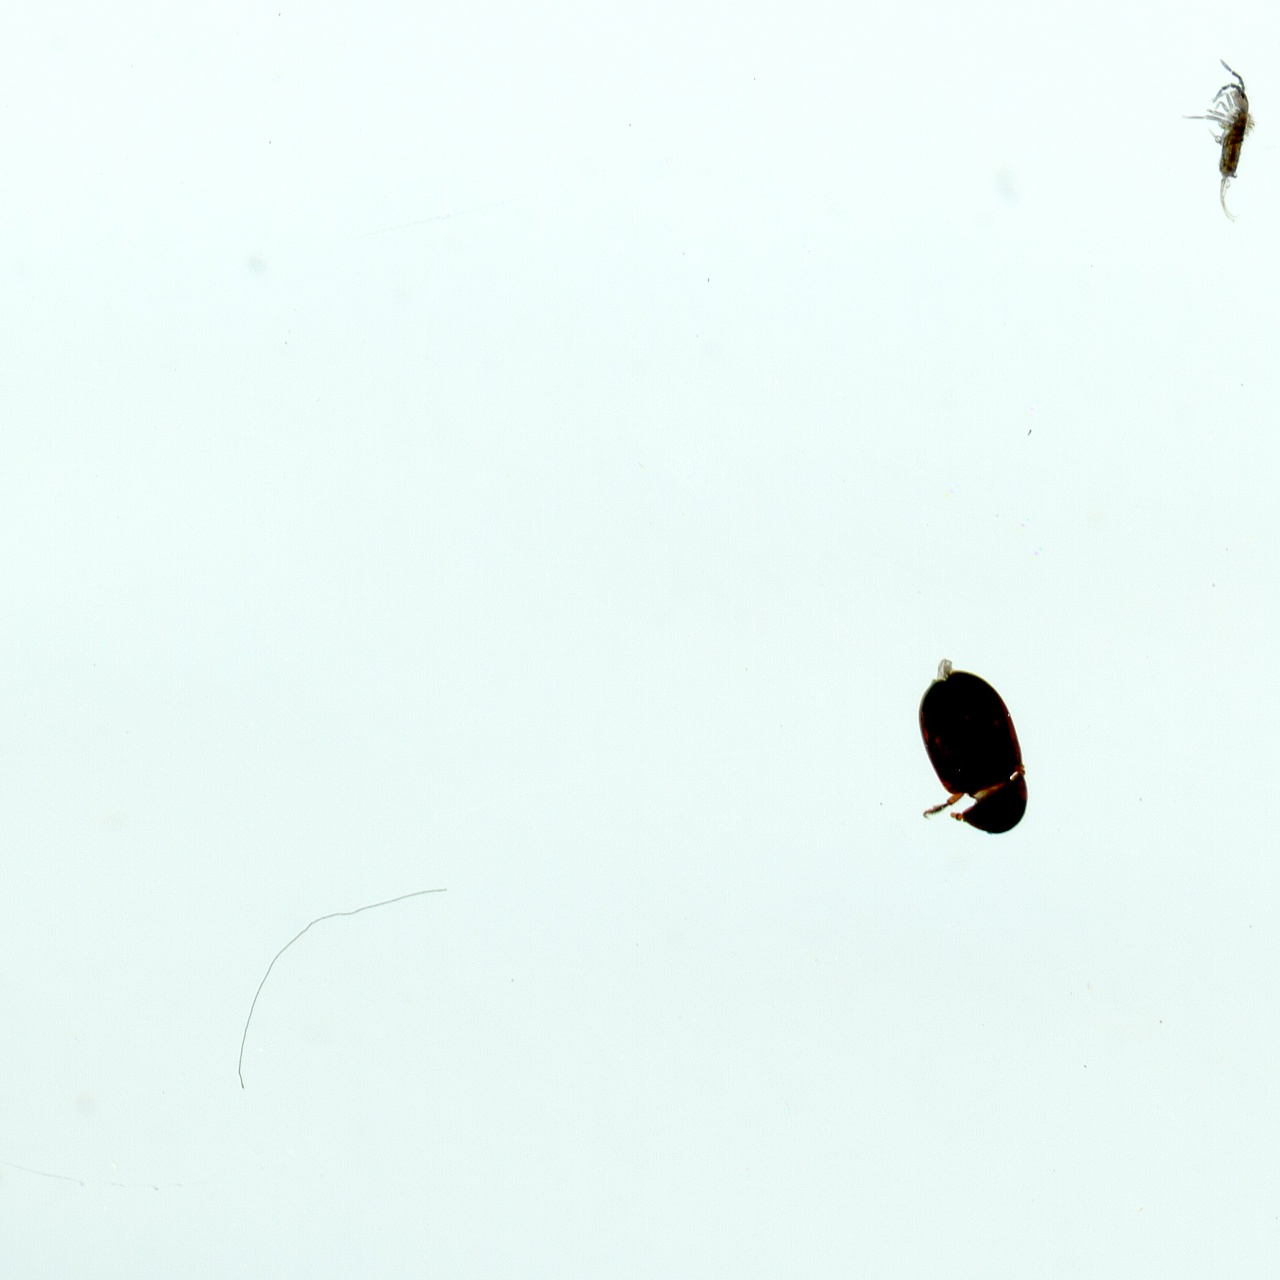arthropod: (911, 662, 1038, 845), (1196, 54, 1263, 223)
